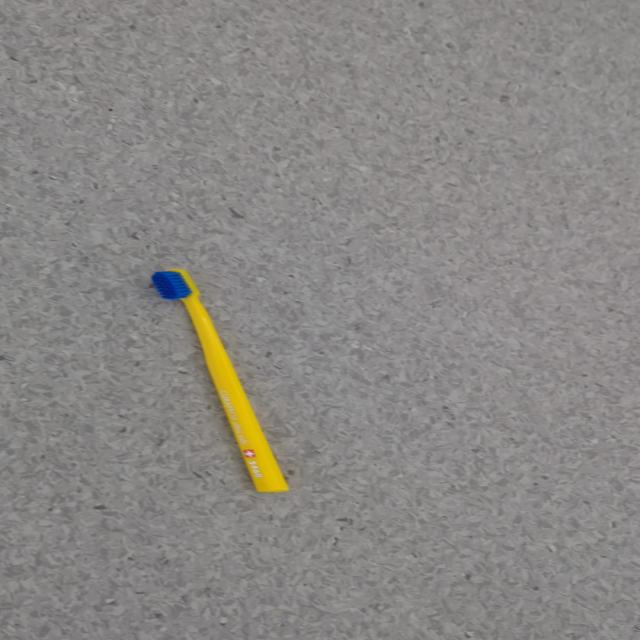toothbrush: (149, 268, 290, 493)
